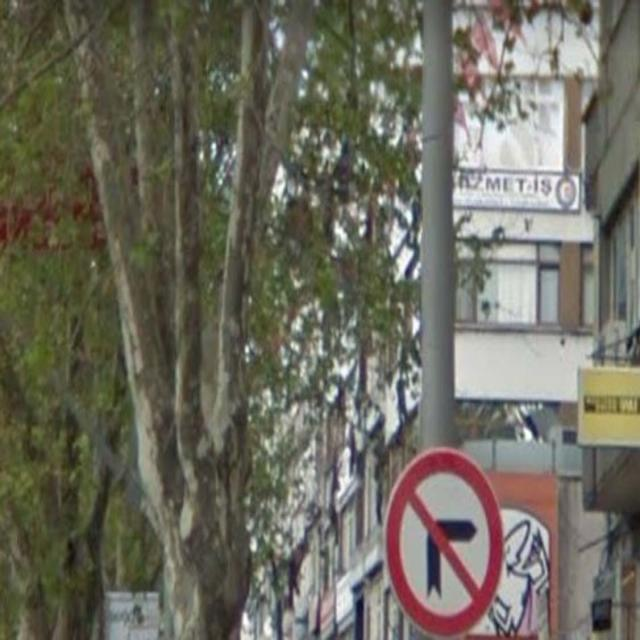sagadonulmez: (385, 447, 503, 636)
